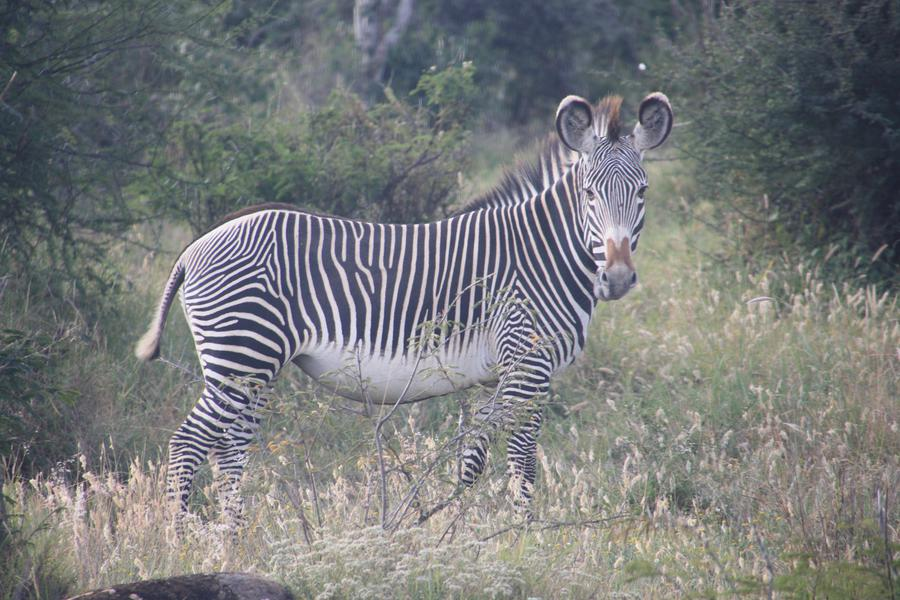zebra_grevys: (175, 203, 564, 364)
